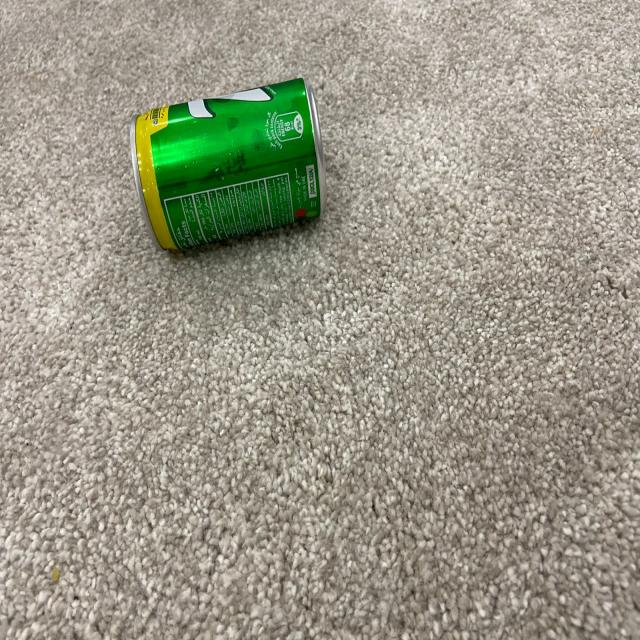non-organic waste: (128, 75, 331, 261)
